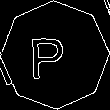P_N: (36, 29, 74, 81)
